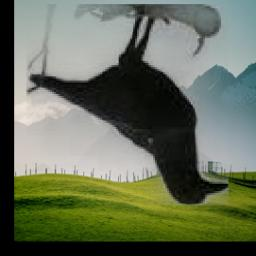Crow: (26, 5, 229, 206)
